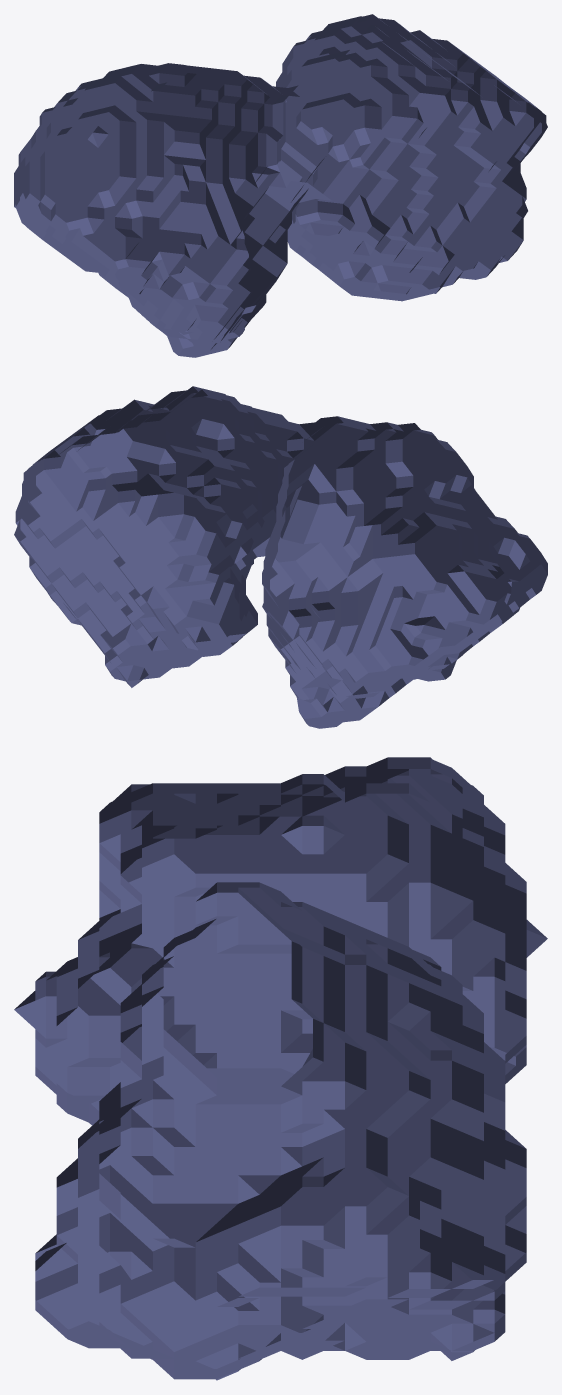
The model's file is region_0062_Had__dorsal_habenular_nucleus_.glb.
3 renders of one model, top to bottom at view 1: azimuth 30°, elevation 25°; view 2: azimuth 150°, elevation 25°; view 3: azimuth 270°, elevation 25°, orthographic. The views are drawn at different scales.
Parts seen in each view (by area): view 1: world; view 2: world; view 3: world.
Part boxes in pixels (box(x1,y1,x2,y2)): world: box(14, 14, 547, 357); world: box(14, 386, 547, 728); world: box(14, 757, 547, 1380).
Bounding box in the file's own units: 0.368 × 0.176 × 0.2.
